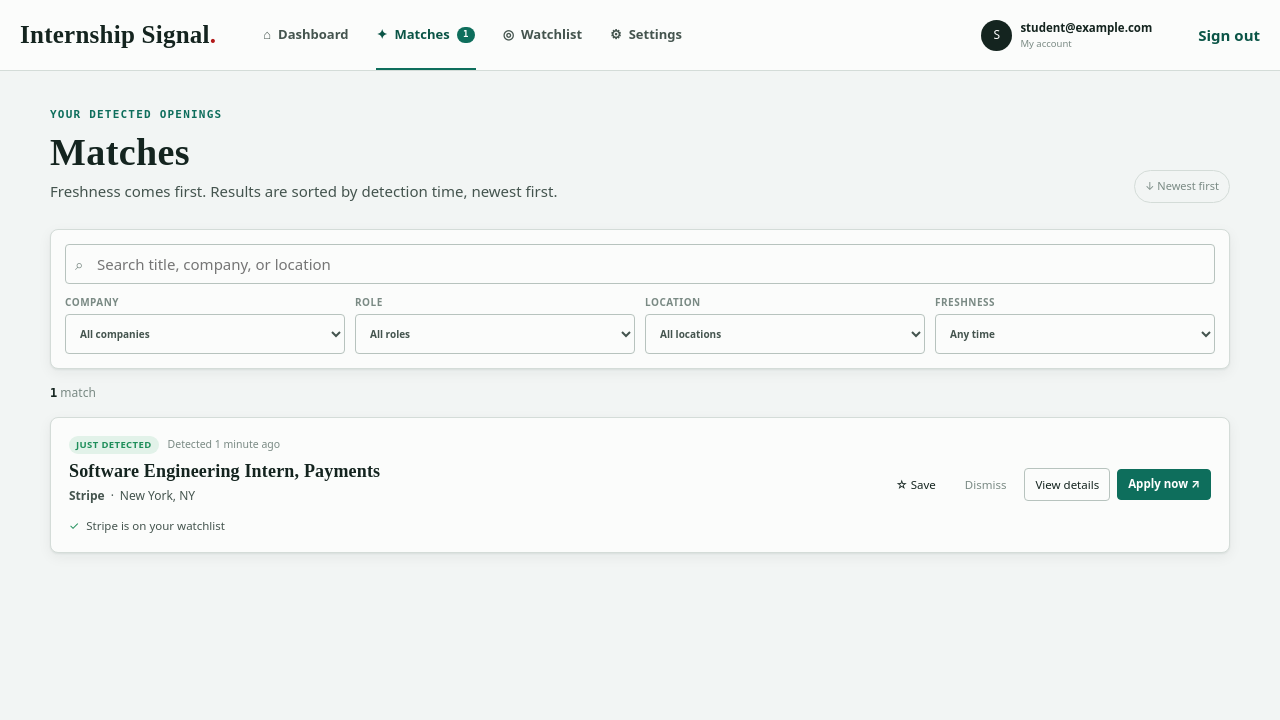
it: hosted match views › dismisses a match through the API and removes it from the list
Expected: the heading "Software Engineering Intern, Payments" is shown, [69,460,380,482]
Click the button "Dismiss" at point(986, 485), box [954,468,1017,502]
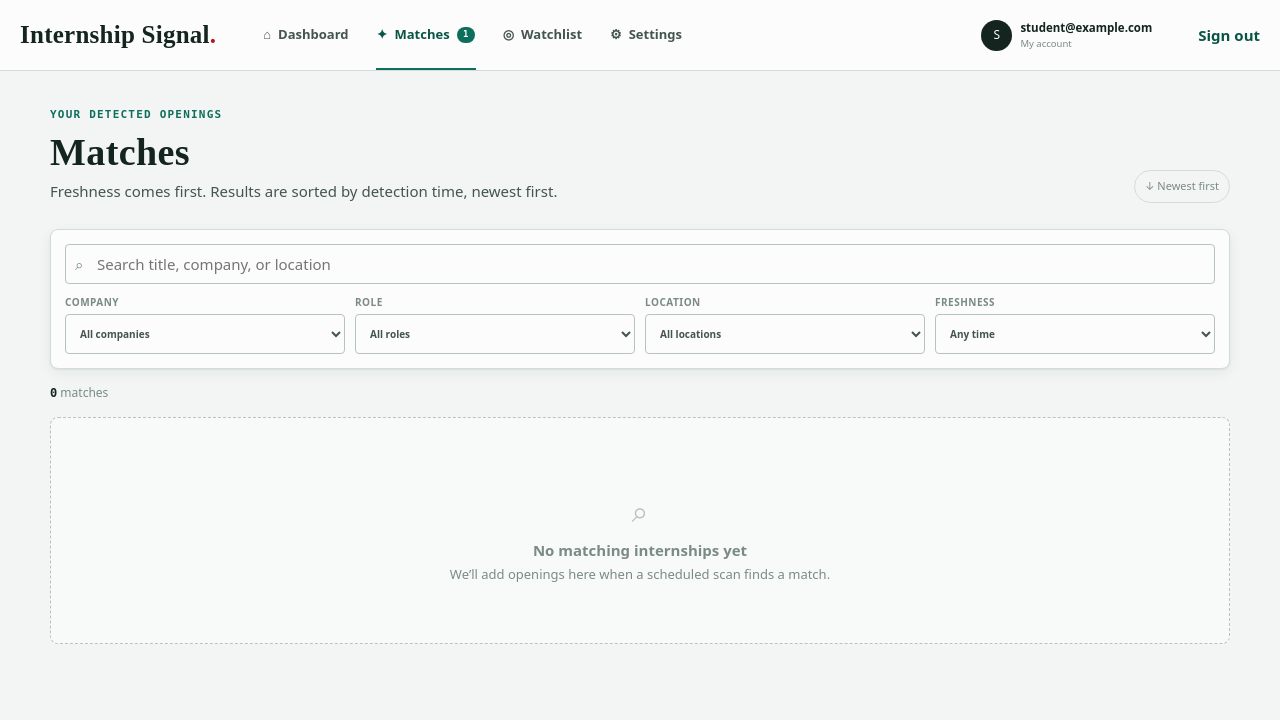
Result: the button "Software Engineering Intern, Payments" is gone
Result: the text "No matching internships yet" is shown at [533,540,747,560]
